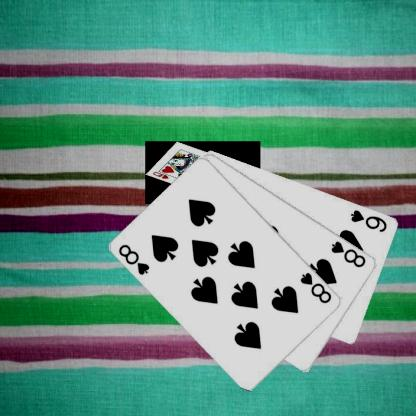6S: (348, 207, 388, 233)
8S: (298, 269, 333, 305), (328, 238, 368, 269), (116, 242, 152, 276)
